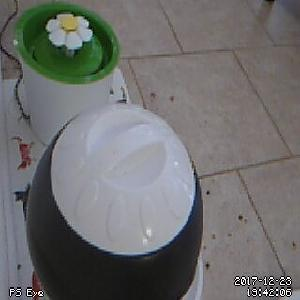fountain: (13, 4, 121, 86)
